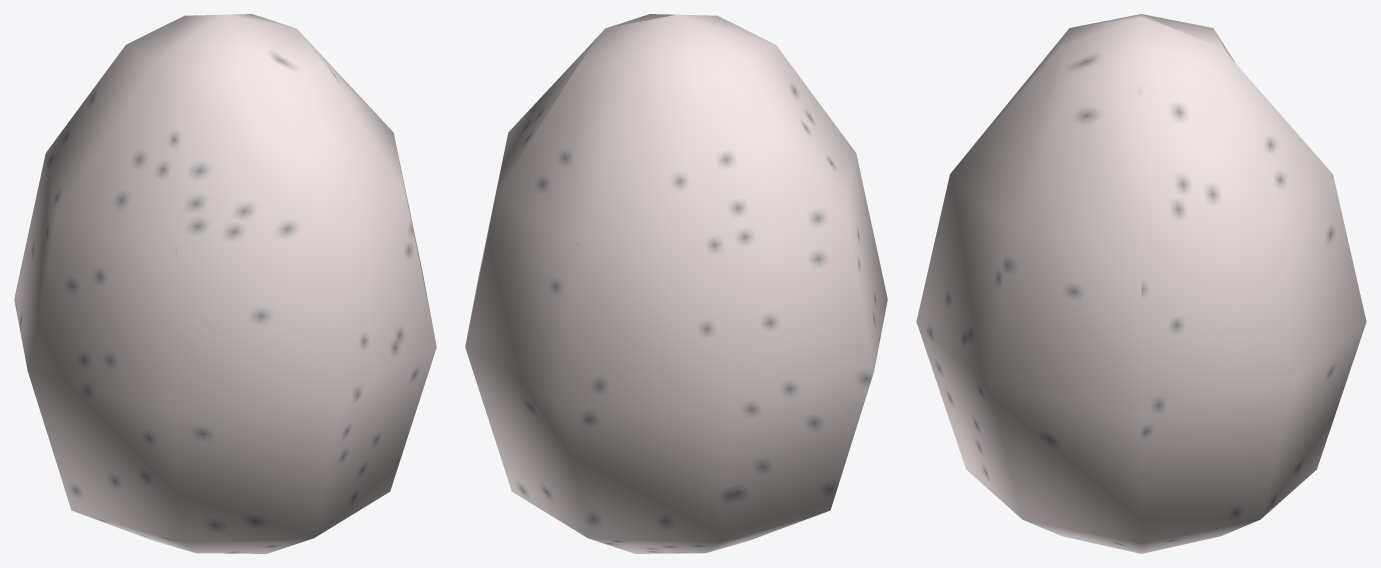
The model's file is egg2.fbx.
The picture shows the model from 3 angles, left to right: view 1: azimuth 30°, elevation 25°; view 2: azimuth 150°, elevation 25°; view 3: azimuth 270°, elevation 25°; orthographic projection.
Visible parts, largest first — view 1: Cube; view 2: Cube; view 3: Cube.
Part boxes in pixels (x1=…): Cube: x1=14, y1=14, x2=436, y2=553; Cube: x1=465, y1=14, x2=887, y2=553; Cube: x1=916, y1=14, x2=1366, y2=553.
Size of the model in its own units: 200 by 255 by 200.
